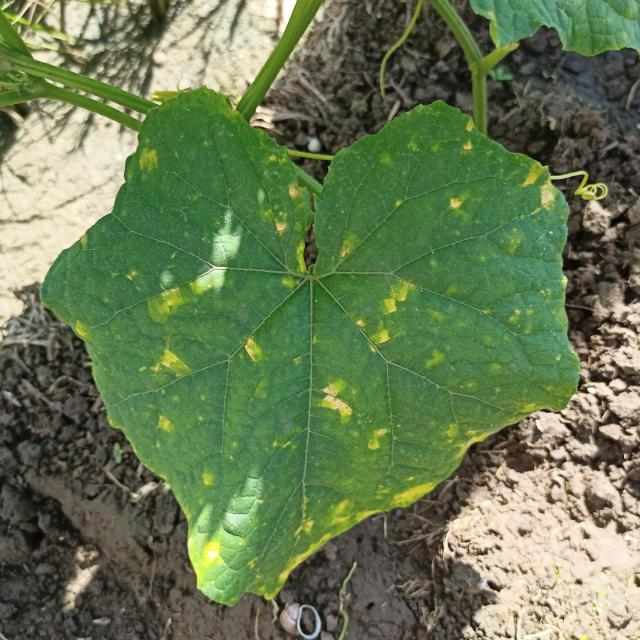disease_cucumber: (58, 95, 569, 601)
